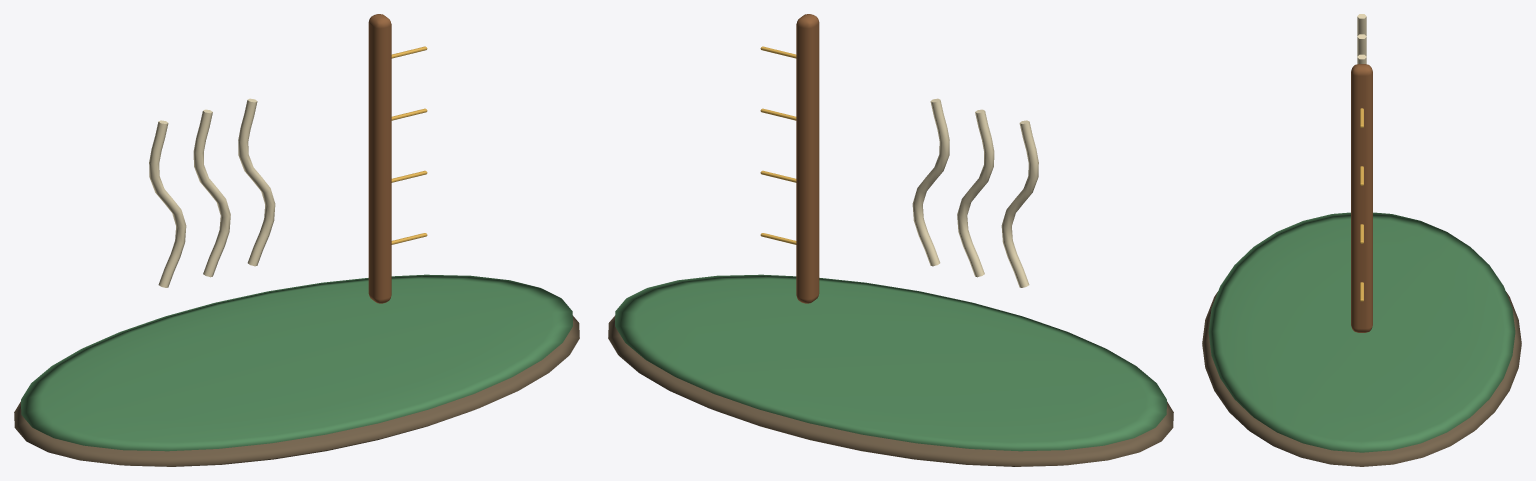
The model's file is temperature.glb.
3 renders of one model, left to right at view 1: azimuth 30°, elevation 25°; view 2: azimuth 150°, elevation 25°; view 3: azimuth 270°, elevation 25°, orthographic. The views are drawn at different scales.
Parts seen in each view (by area): view 1: temperature_surface_01, temperature_surface_00, temperature_surface_03, temperature_surface_02, temperature_surface_04; view 2: temperature_surface_01, temperature_surface_00, temperature_surface_03, temperature_surface_02, temperature_surface_04; view 3: temperature_surface_01, temperature_surface_00, temperature_surface_03, temperature_surface_02.
Boxes of the visible parts, x1=… form: temperature_surface_01: x1=21, y1=274, x2=572, y2=451; temperature_surface_00: x1=14, y1=315, x2=579, y2=466; temperature_surface_03: x1=368, y1=14, x2=391, y2=303; temperature_surface_02: x1=149, y1=98, x2=275, y2=287; temperature_surface_04: x1=391, y1=46, x2=427, y2=244; temperature_surface_01: x1=615, y1=274, x2=1166, y2=451; temperature_surface_00: x1=608, y1=315, x2=1173, y2=466; temperature_surface_03: x1=796, y1=14, x2=819, y2=303; temperature_surface_02: x1=912, y1=98, x2=1038, y2=287; temperature_surface_04: x1=760, y1=46, x2=796, y2=244; temperature_surface_01: x1=1208, y1=212, x2=1515, y2=452; temperature_surface_00: x1=1202, y1=292, x2=1521, y2=466; temperature_surface_03: x1=1351, y1=64, x2=1372, y2=332; temperature_surface_02: x1=1357, y1=14, x2=1366, y2=64.
Size of the model in its own units: 4.56 by 2.86 by 2.5.
